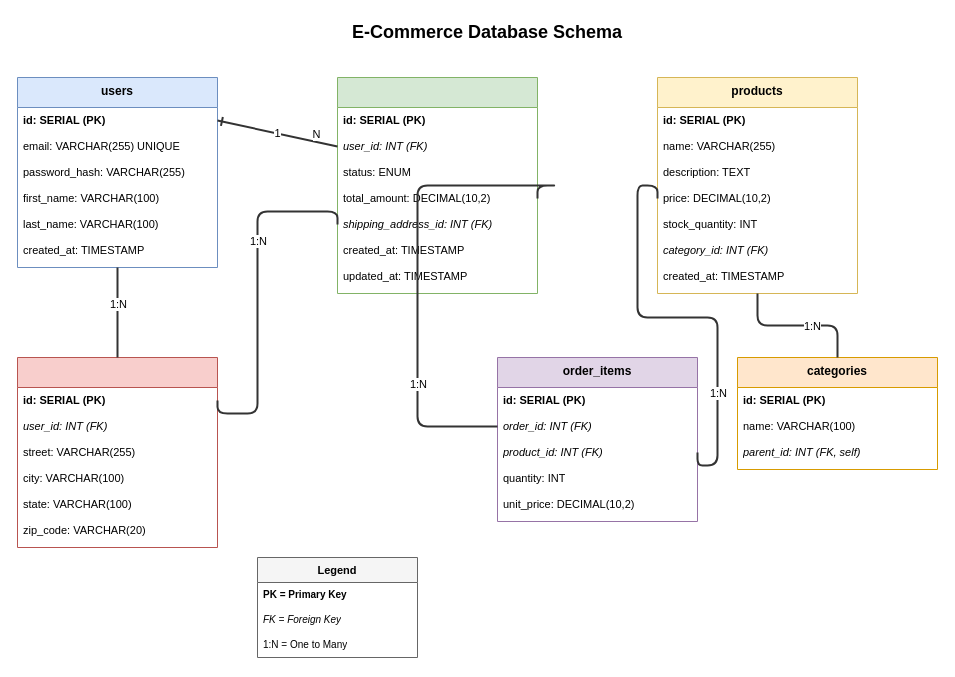
Image size: 955x677. Some labels were removed from this diagram. The shapes that lost their labels are listed below. From the top down, each one's box as (x1, y1, x2, y2) in pixels, then its label:
(336, 76, 538, 294): orders
(16, 356, 218, 548): addresses
